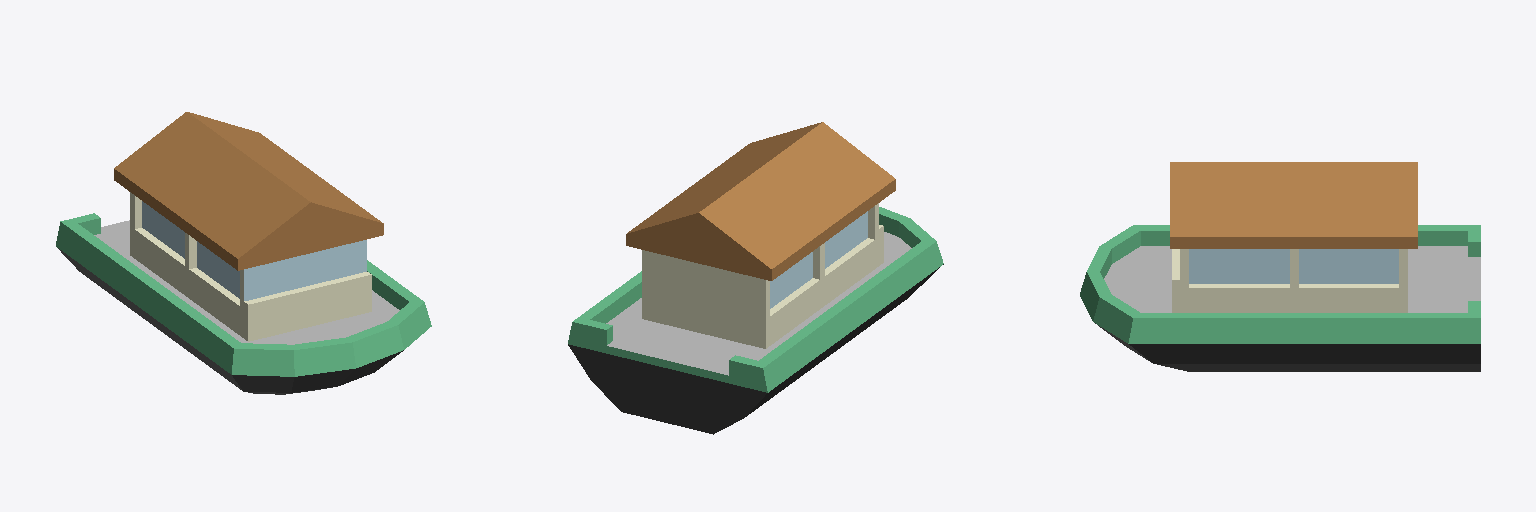
File: watercraftPack_026.obj
The picture shows the model from 3 angles: view 1: azimuth 30°, elevation 25°; view 2: azimuth 150°, elevation 25°; view 3: azimuth 270°, elevation 25°; orthographic projection.
Visible parts, largest first — view 1: Mesh1 Group1 Model; view 2: Mesh1 Group1 Model; view 3: Mesh1 Group1 Model.
Boxes of the visible parts, box(x1,y1,x2,y2) form: Mesh1 Group1 Model: box(56, 112, 431, 394); Mesh1 Group1 Model: box(568, 122, 943, 434); Mesh1 Group1 Model: box(1080, 162, 1480, 371).
Size of the model in its own units: 2.68 by 2.4 by 4.64.